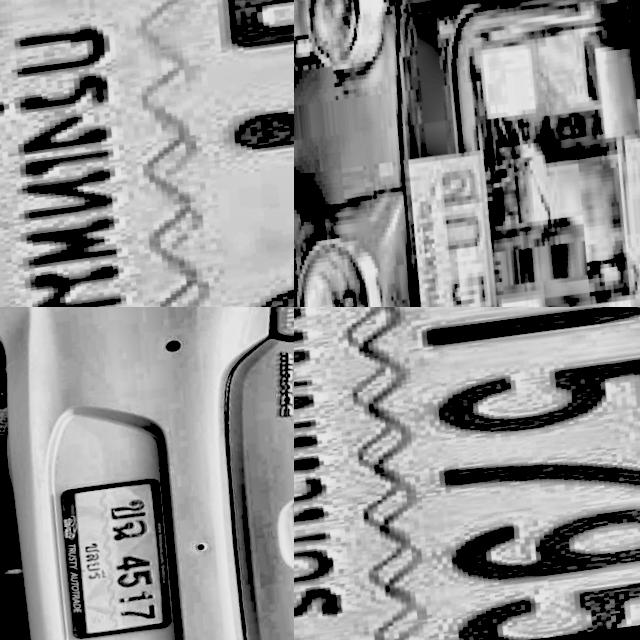license-plate: (294, 307, 640, 640), (0, 0, 294, 307), (51, 476, 184, 640), (393, 154, 521, 307)
